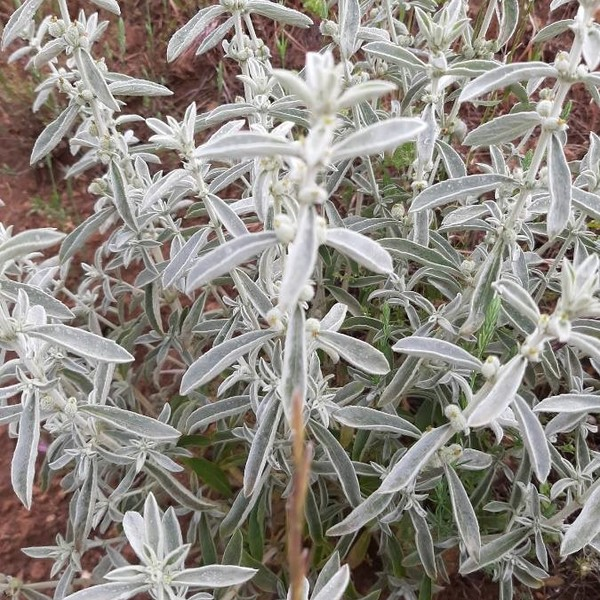obstacle: (22, 12, 527, 544)
